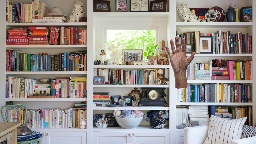Mano_aperta: (163, 35, 196, 71)
